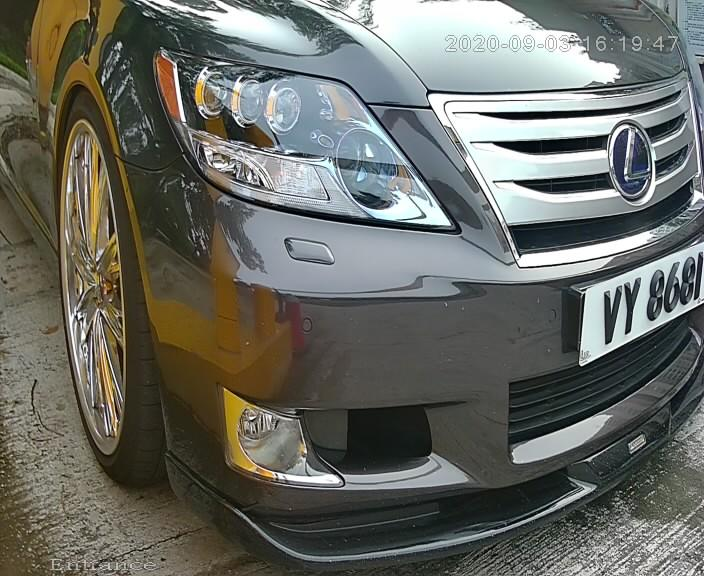Car: (4, 1, 704, 556)
License Plate: (569, 217, 704, 371)
